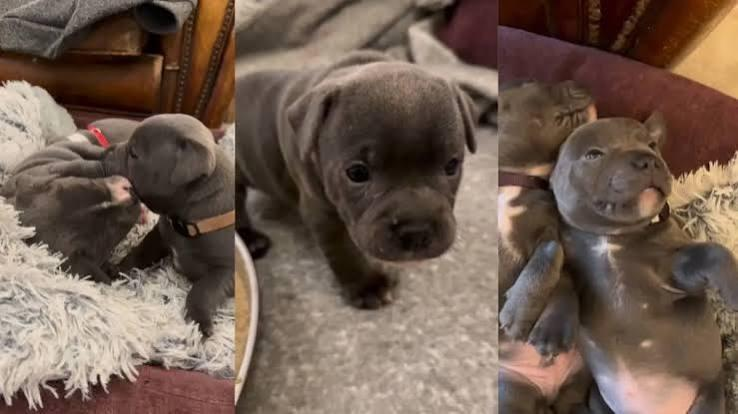puppy-dog: (500, 107, 738, 414), (236, 50, 479, 308), (95, 114, 237, 343), (1, 144, 166, 290), (497, 84, 603, 286)
